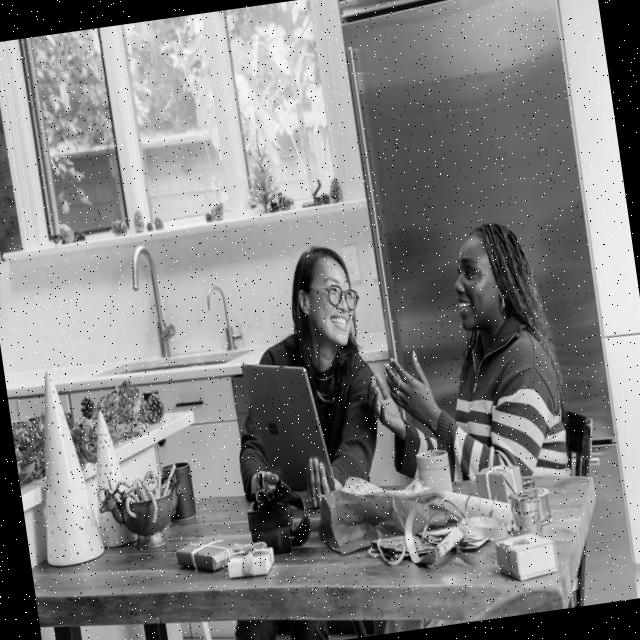Happiness: (446, 232, 508, 335), (304, 254, 367, 350)
